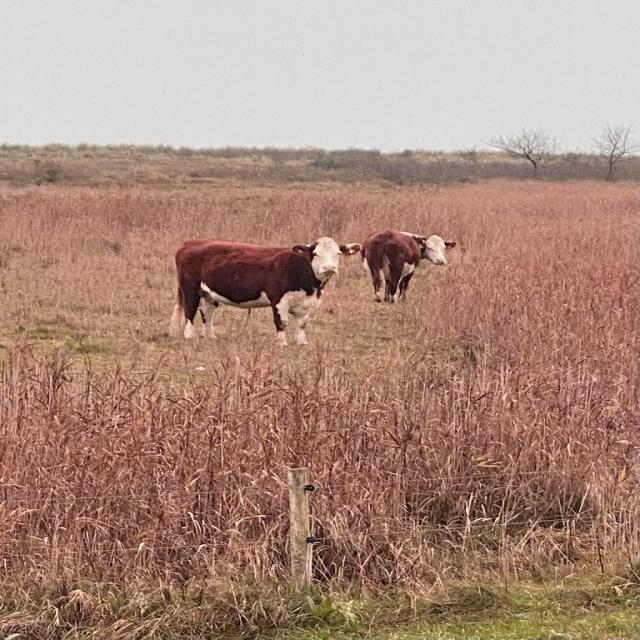cow: (175, 236, 361, 345), (361, 230, 454, 302)
